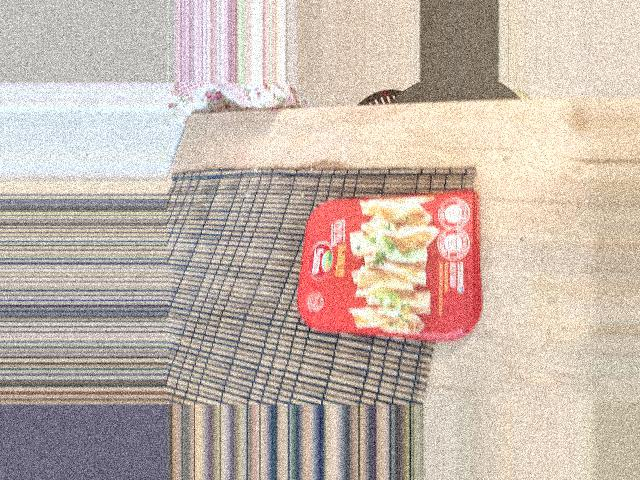cheese: (246, 214, 370, 404)
